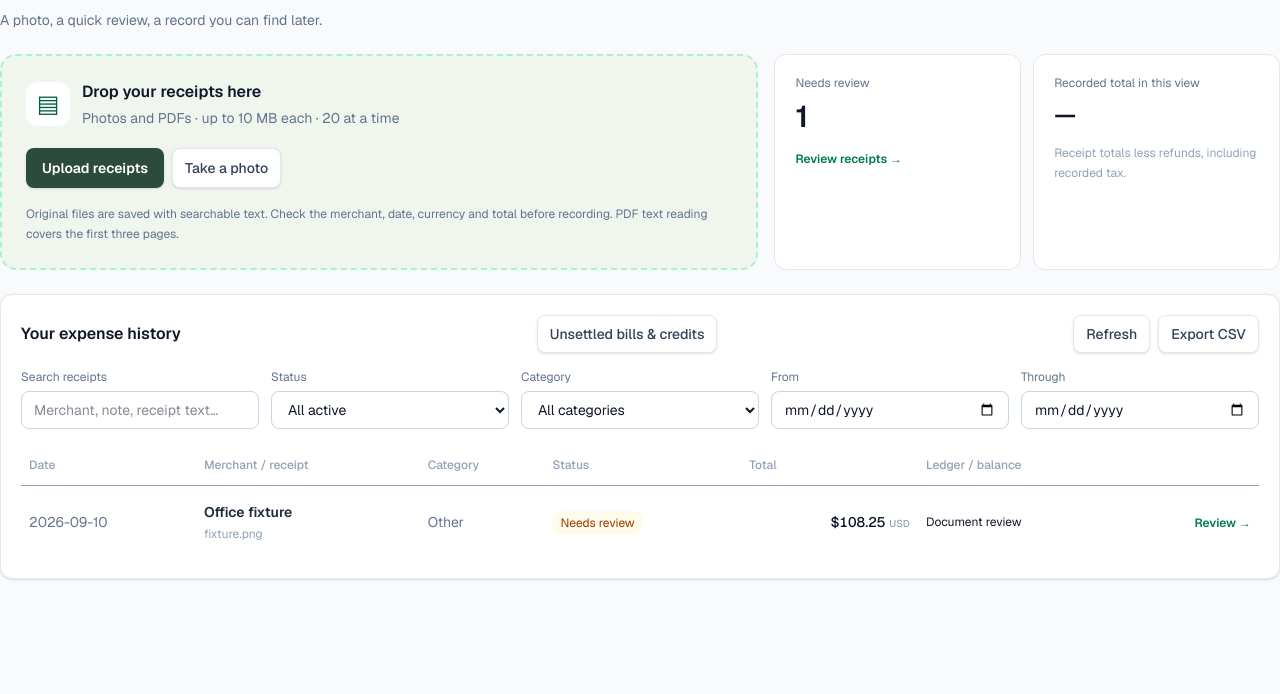
searches extracted text and preserves edits when a save fails
Type "pencils" into the field labelled "Search receipts".
click(140, 410); type("pencils")  # box 21,391 -> 259,429
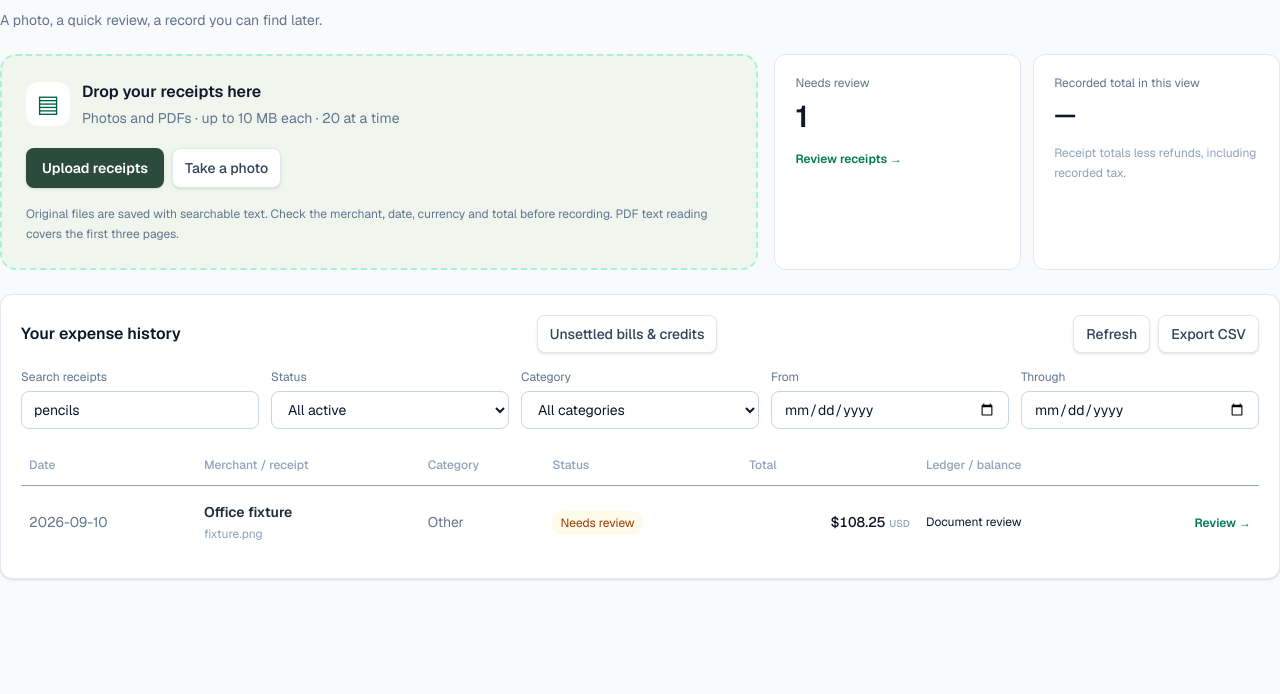
Expected: the button "Office fixture" is shown, 204,502 -> 292,522
Click the button "Review →".
click(1223, 523)  # box 1194,515 -> 1251,531
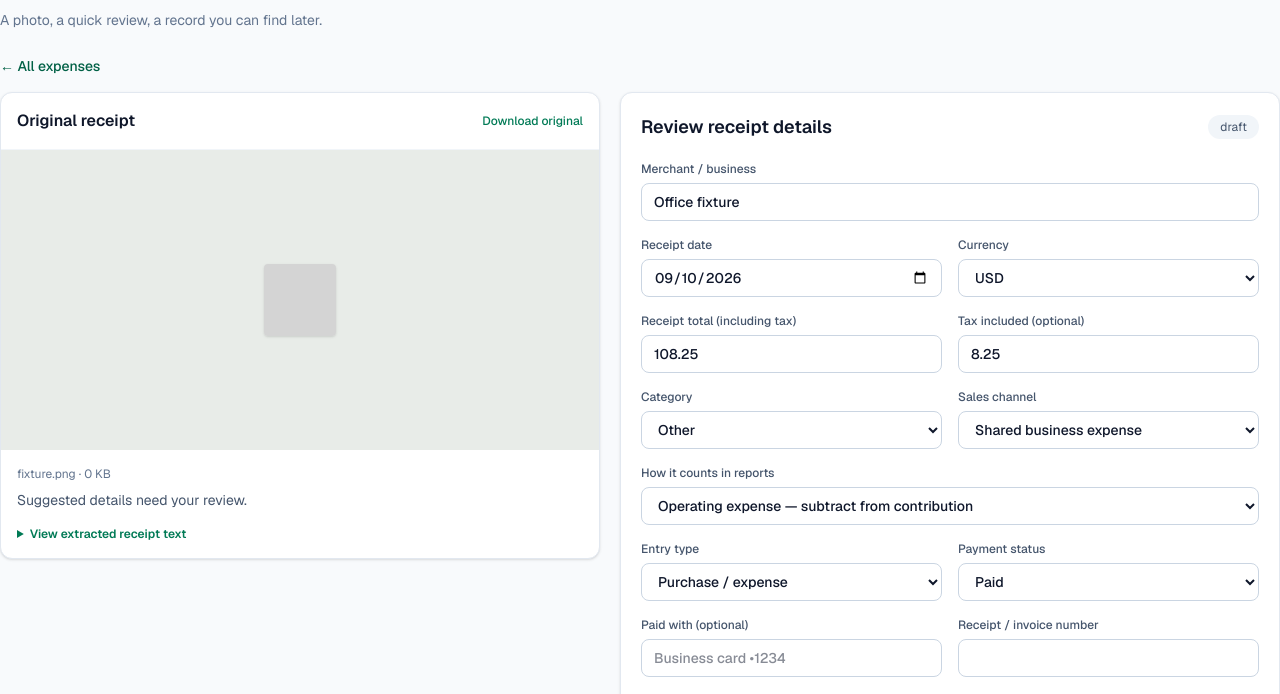
Replace the text in the field labelled "Merchant / business" with "Edited vendor" at (950, 202), box 641,183 -> 1259,221
(page scrolled)
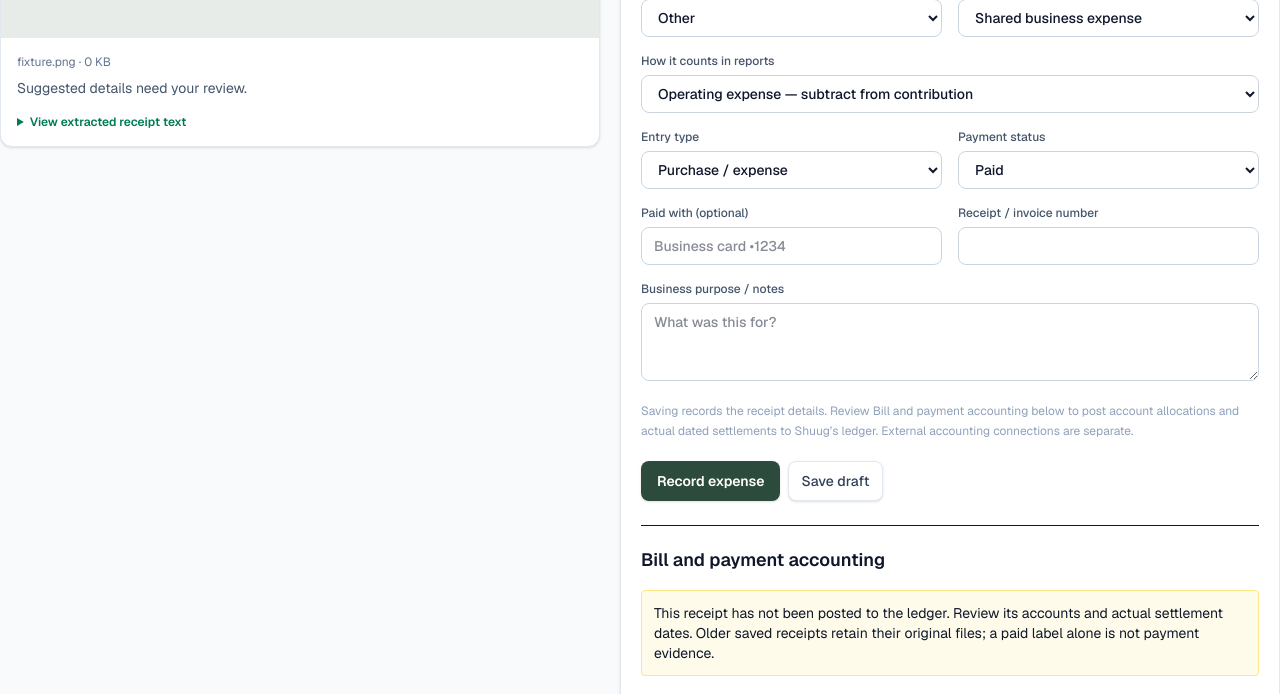
Click the button "Record expense".
click(711, 481)  # box 641,461 -> 780,501
(page scrolled)
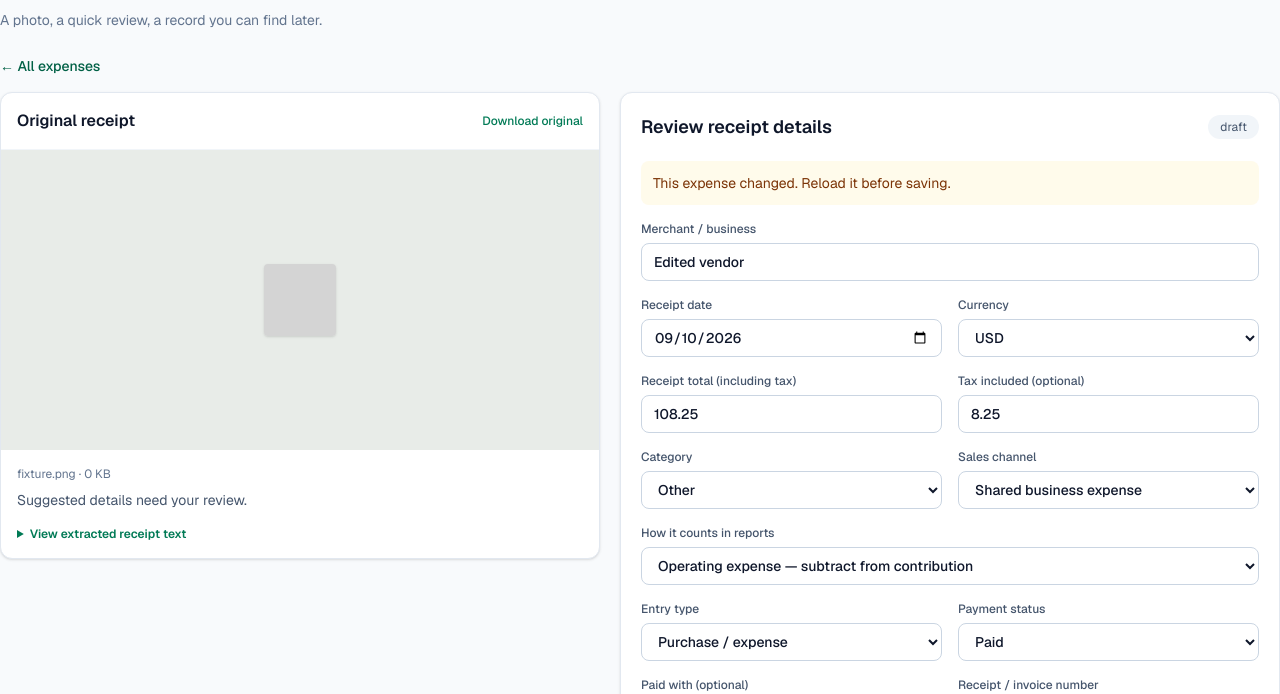
Result: the message shows "This expense changed" at 653,174 -> 950,192
